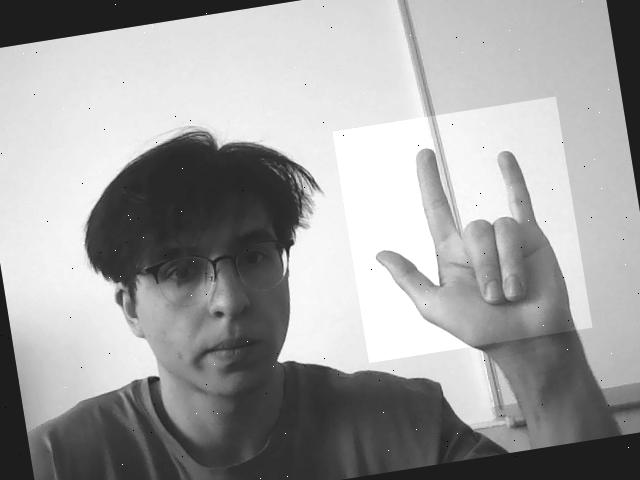I_Love_You: (332, 96, 592, 362)
